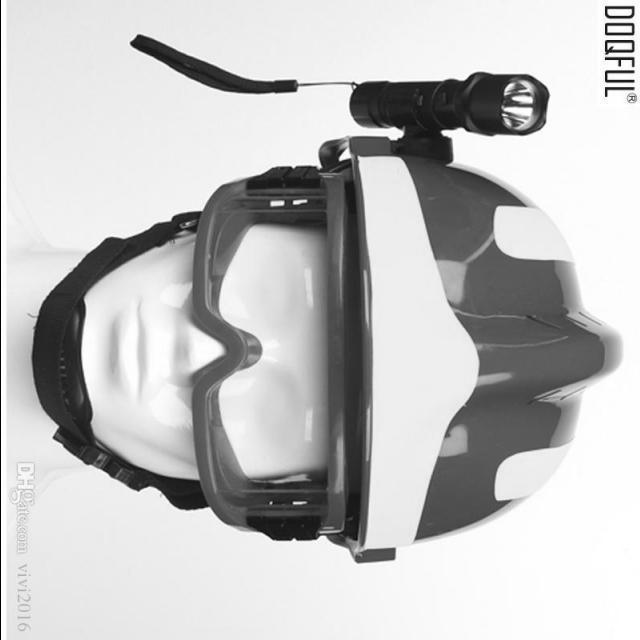safety_helmet: (348, 153, 598, 558)
